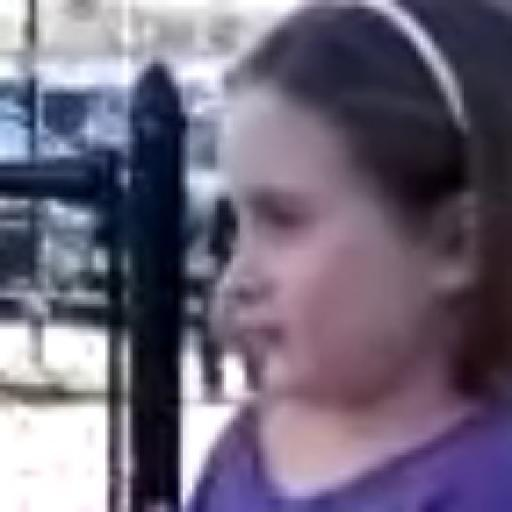Autism: (169, 71, 512, 455)
